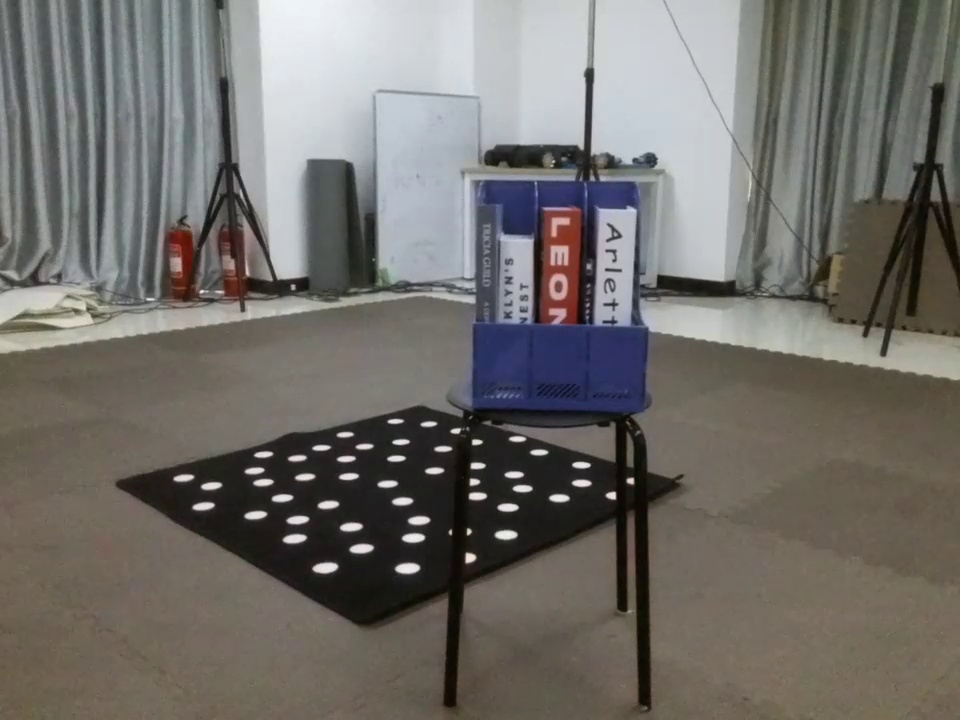files: (458, 170, 653, 422)
